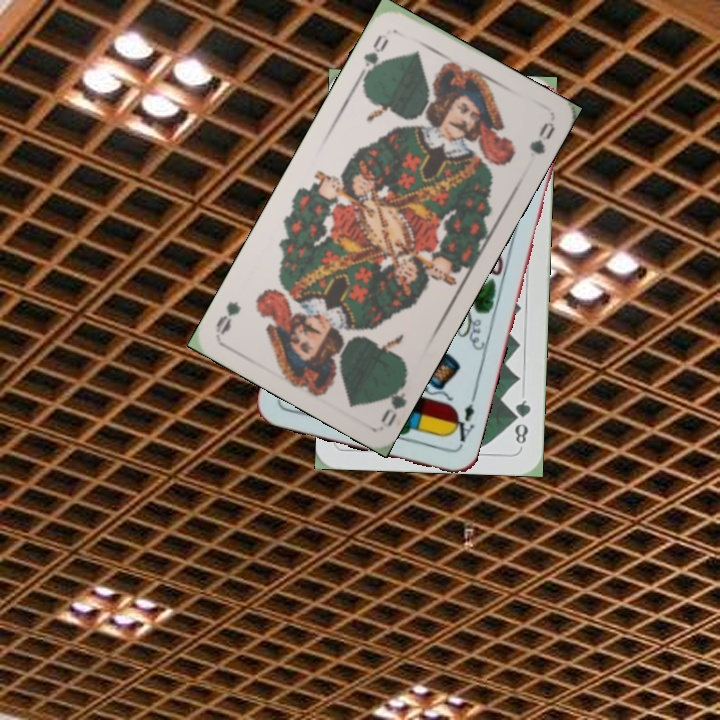EA: (446, 399, 477, 449)
G8: (509, 396, 534, 447)
GO: (355, 30, 392, 82), (377, 371, 410, 429)
